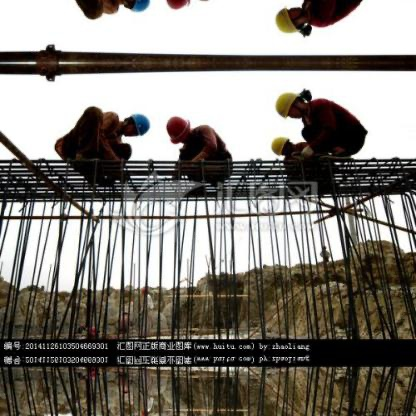Safety Helmet: (270, 3, 311, 39), (274, 87, 310, 125), (120, 105, 154, 139), (162, 111, 196, 145), (268, 132, 297, 163)
